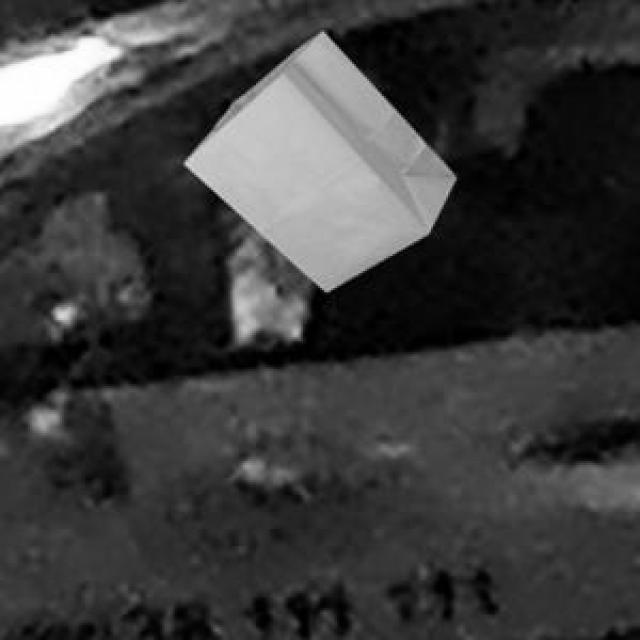paper: (181, 28, 452, 288)
